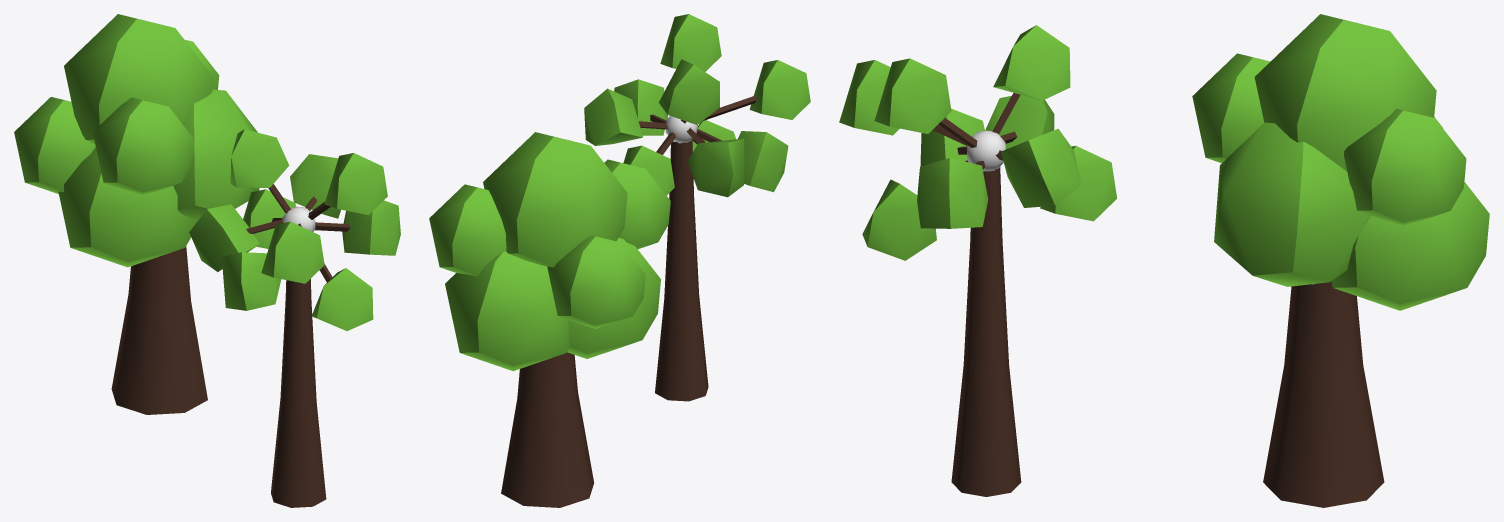
File: Trees.fbx
3 views of the same model, side by side, from view 1: azimuth 30°, elevation 25°; view 2: azimuth 150°, elevation 25°; view 3: azimuth 270°, elevation 25° (orthographic). The views are drawn at different scales.
Visible parts, largest first — view 1: leaves, Kugel_8, Zylinder, Zylinder_2, Würfel_1, Kugel; view 2: leaves, Kugel_8, Zylinder, Zylinder_2, Würfel_1, Kugel; view 3: leaves, Kugel_8, Zylinder, Zylinder_2, Würfel_1, Kugel.
Boxes of the visible parts, <box> form: leaves: <box>14,14,259,267</box>; Kugel_8: <box>189,129,400,330</box>; Zylinder: <box>111,246,207,414</box>; Zylinder_2: <box>271,279,326,507</box>; Würfel_1: <box>246,184,350,282</box>; Kugel: <box>282,206,315,231</box>; leaves: <box>429,132,670,371</box>; Kugel_8: <box>584,14,810,197</box>; Zylinder: <box>501,352,593,507</box>; Zylinder_2: <box>655,140,708,401</box>; Würfel_1: <box>638,95,756,154</box>; Kugel: <box>665,116,697,143</box>; leaves: <box>1192,14,1489,310</box>; Kugel_8: <box>839,25,1116,260</box>; Zylinder: <box>1263,281,1384,507</box>; Zylinder_2: <box>951,167,1021,496</box>; Würfel_1: <box>933,93,1020,169</box>; Kugel: <box>967,130,1005,171</box>.
Bounding box in the file's own units: 83.04 × 148 × 193.
